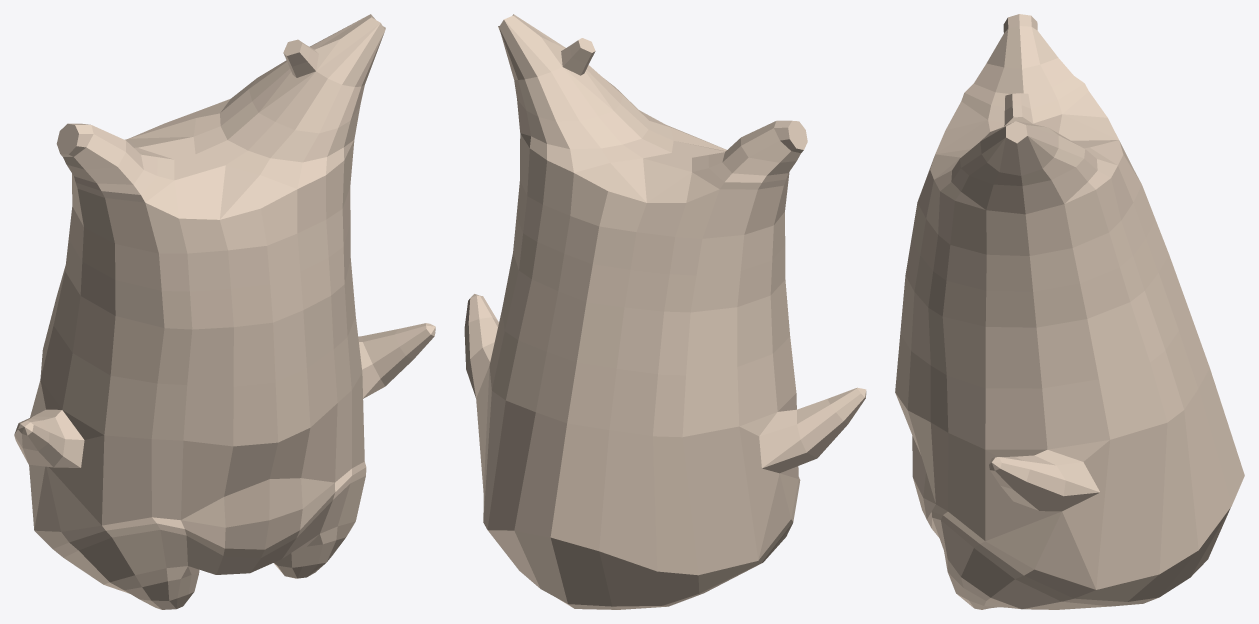
File: frame_0103.obj
3 renders of one model, left to right at view 1: azimuth 30°, elevation 25°; view 2: azimuth 150°, elevation 25°; view 3: azimuth 270°, elevation 25°, orthographic. The views are drawn at different scales.
Visible parts, largest first — view 1: korok; view 2: korok; view 3: korok.
Part boxes in pixels (x1=…): korok: x1=14, y1=14, x2=435, y2=609; korok: x1=464, y1=14, x2=866, y2=609; korok: x1=895, y1=14, x2=1244, y2=609.
Size of the model in its own units: 1.47 by 1.8 by 1.06.
